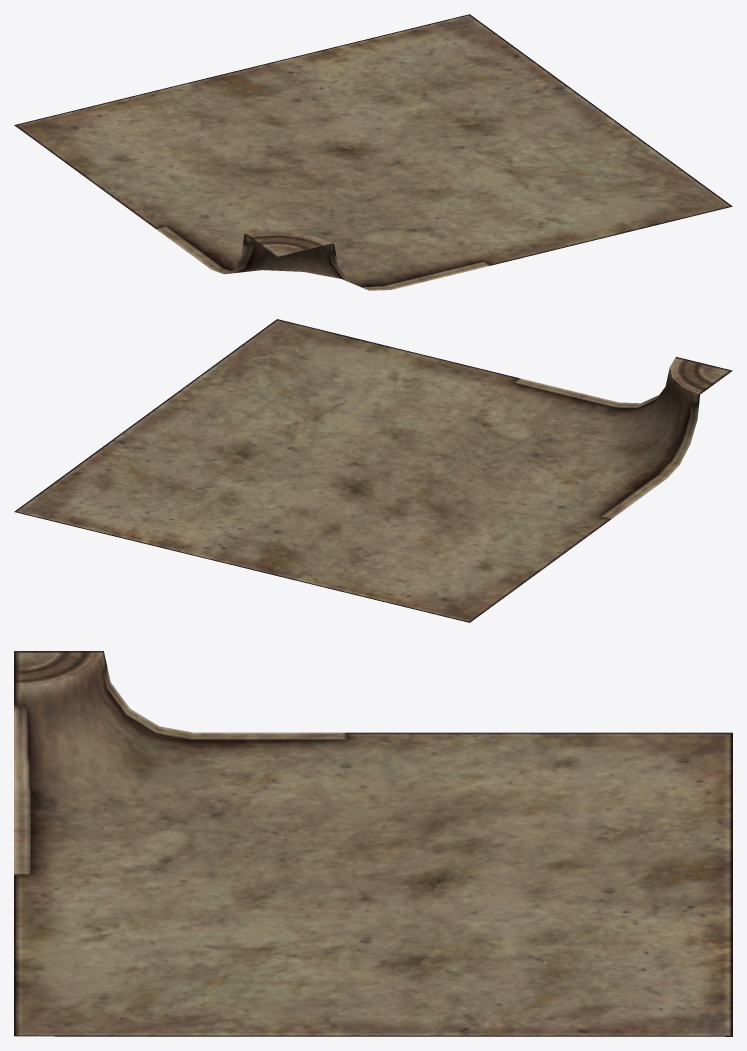
File: pplant_ground_edge_convex_sunk.dae
The picture shows the model from 3 angles, top to bottom: view 1: azimuth 30°, elevation 25°; view 2: azimuth 150°, elevation 25°; view 3: azimuth 270°, elevation 25°; orthographic projection. The views are drawn at different scales.
Parts seen in each view (by area): view 1: edge_convex_sunk; view 2: edge_convex_sunk; view 3: edge_convex_sunk.
Boxes of the visible parts, x1,y1,x2,y2 form: edge_convex_sunk: (14,14,732,290); edge_convex_sunk: (14,319,732,622); edge_convex_sunk: (14,651,732,1036).
Size of the model in its own units: 2 by 0.2513 by 2.
